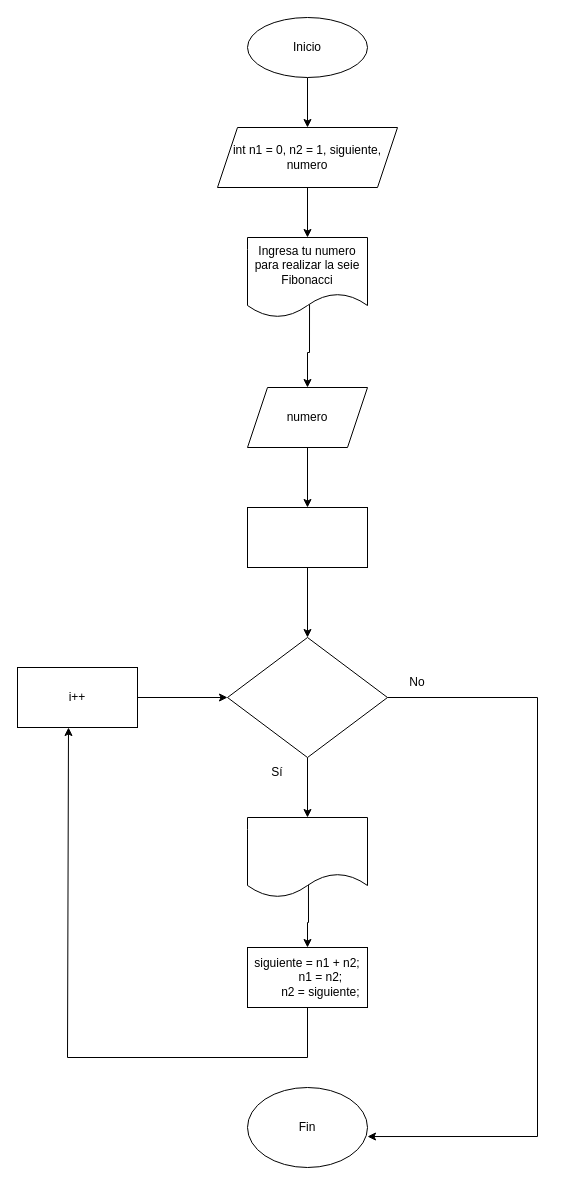
The diagram is 563 pixels wide and 1185 high, and some of its shapes have lost their labels. The centre of each missing label's shape, as x and y in pixels:
"int i = 0" belongs at [307,537].
"n1" belongs at [307,857].
"n1 <= numero" belongs at [307,697].
